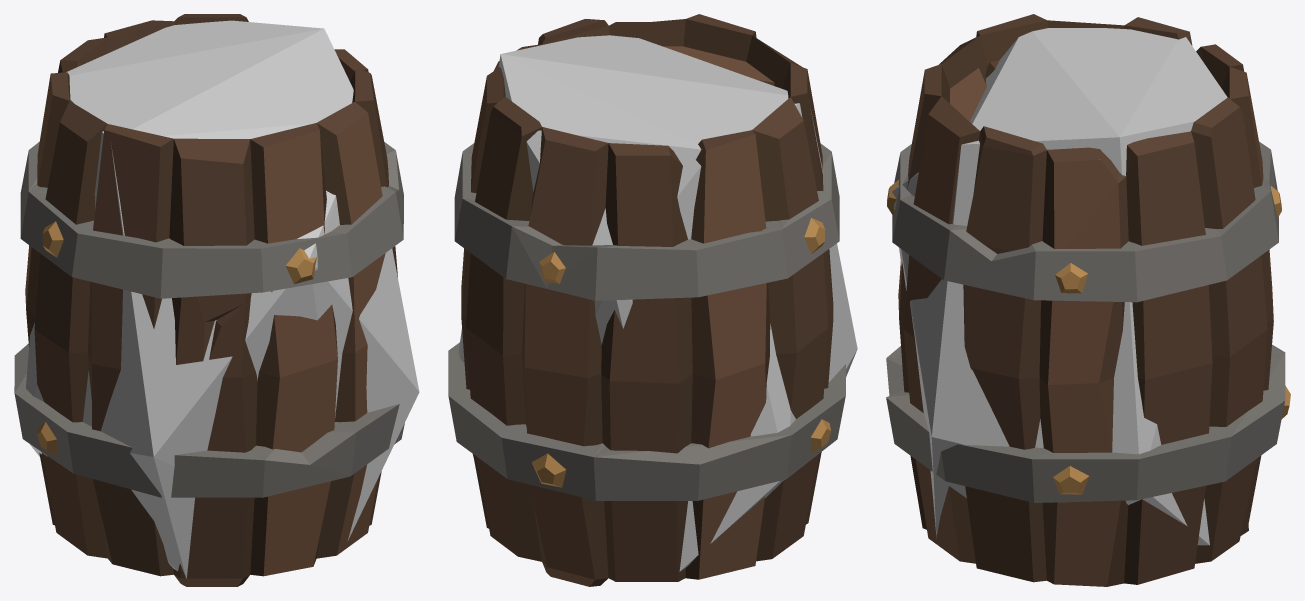
Rendered from SM_Prop_Barrel_02.fbx.
3 renders of one model, left to right at view 1: azimuth 30°, elevation 25°; view 2: azimuth 150°, elevation 25°; view 3: azimuth 270°, elevation 25°, orthographic.
Parts seen in each view (by area): view 1: SM_Prop_Barrel_02, SM_Prop_Barrel_02_ConvexHulls; view 2: SM_Prop_Barrel_02, SM_Prop_Barrel_02_ConvexHulls; view 3: SM_Prop_Barrel_02, SM_Prop_Barrel_02_ConvexHulls.
Boxes of the visible parts, left/top/right/bottom form: SM_Prop_Barrel_02: left=14, top=14, right=404, bottom=586; SM_Prop_Barrel_02_ConvexHulls: left=26, top=20, right=419, bottom=578; SM_Prop_Barrel_02: left=448, top=14, right=845, bottom=586; SM_Prop_Barrel_02_ConvexHulls: left=458, top=35, right=857, bottom=571; SM_Prop_Barrel_02: left=886, top=14, right=1290, bottom=586; SM_Prop_Barrel_02_ConvexHulls: left=892, top=28, right=1244, bottom=545.
Size of the model in its own units: 72.78 by 72.28 by 89.39.
2 materials, 1 textured.
